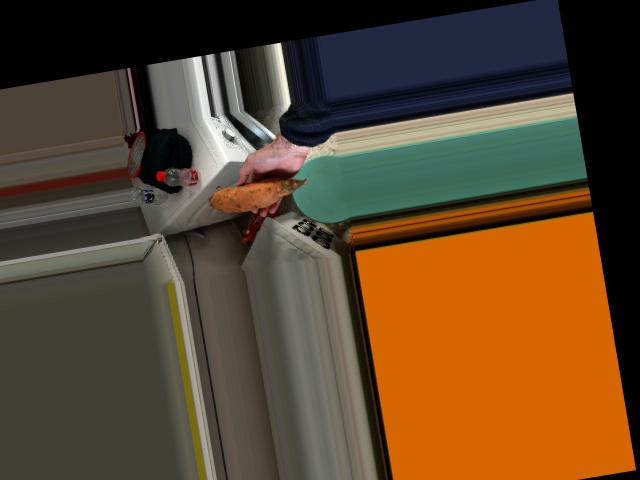sweet_potato: (197, 170, 289, 217)
